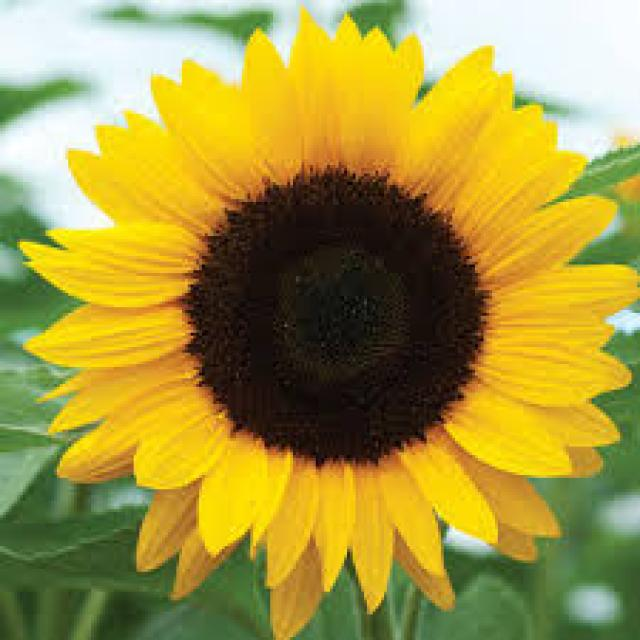sunflower: (30, 17, 638, 629)
